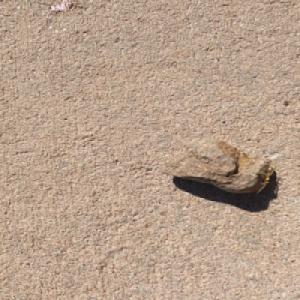Rock: (158, 138, 276, 195)
